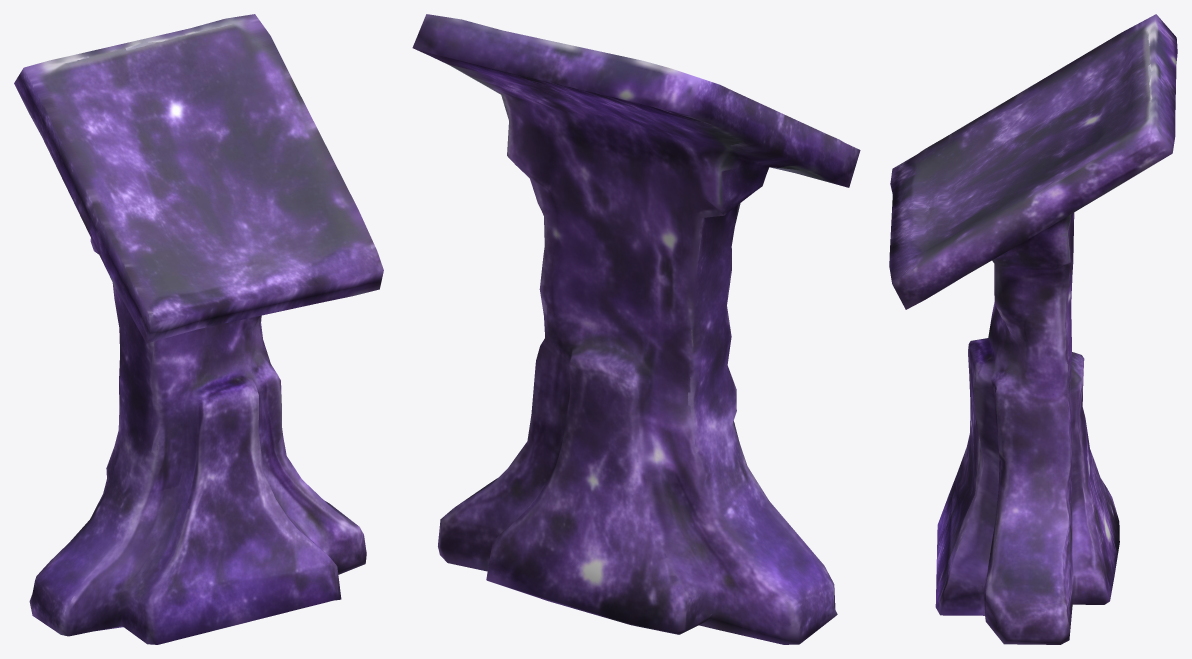
Rendered from structure.glb.
3 views of the same model, side by side, from view 1: azimuth 30°, elevation 25°; view 2: azimuth 150°, elevation 25°; view 3: azimuth 270°, elevation 25° (orthographic). The views are drawn at different scales.
Parts seen in each view (by area): view 1: Lectern; view 2: Lectern; view 3: Lectern.
Boxes of the visible parts, x1=… form: Lectern: x1=14, y1=14, x2=383, y2=644; Lectern: x1=412, y1=14, x2=860, y2=644; Lectern: x1=889, y1=14, x2=1177, y2=644.
Bounding box in the file's own units: 0.6363 × 1 × 0.5176.
1 material, 1 textured.
